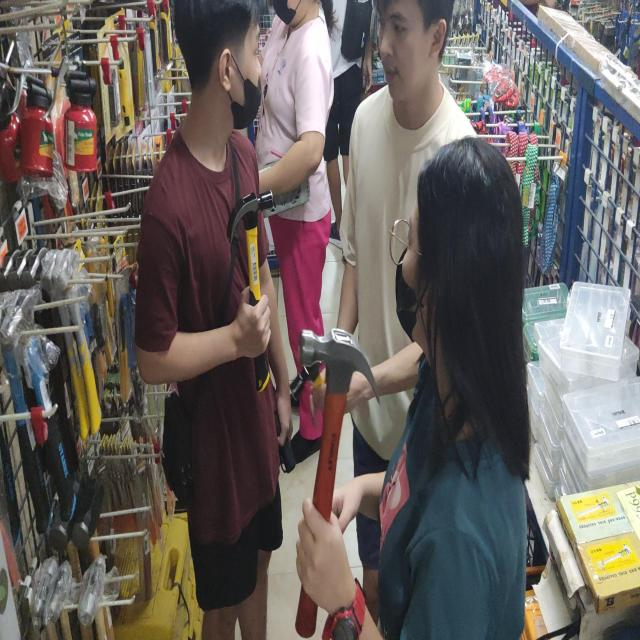hammer: (295, 327, 381, 638), (226, 190, 273, 392)
